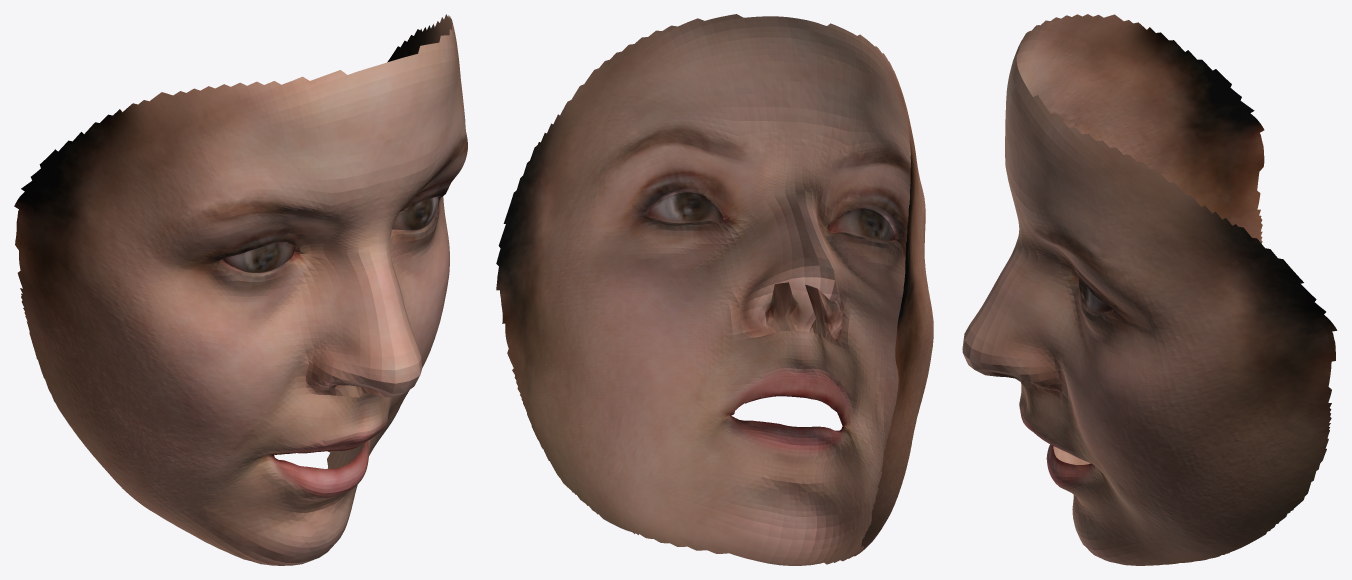
The model's file is frame_934_mesh.obj.
3 renders of one model, left to right at view 1: azimuth 30°, elevation 25°; view 2: azimuth 150°, elevation 25°; view 3: azimuth 270°, elevation 25°, orthographic. The views are drawn at different scales.
Bounding box in the file's own units: 1.31 × 1.68 × 1.13.
